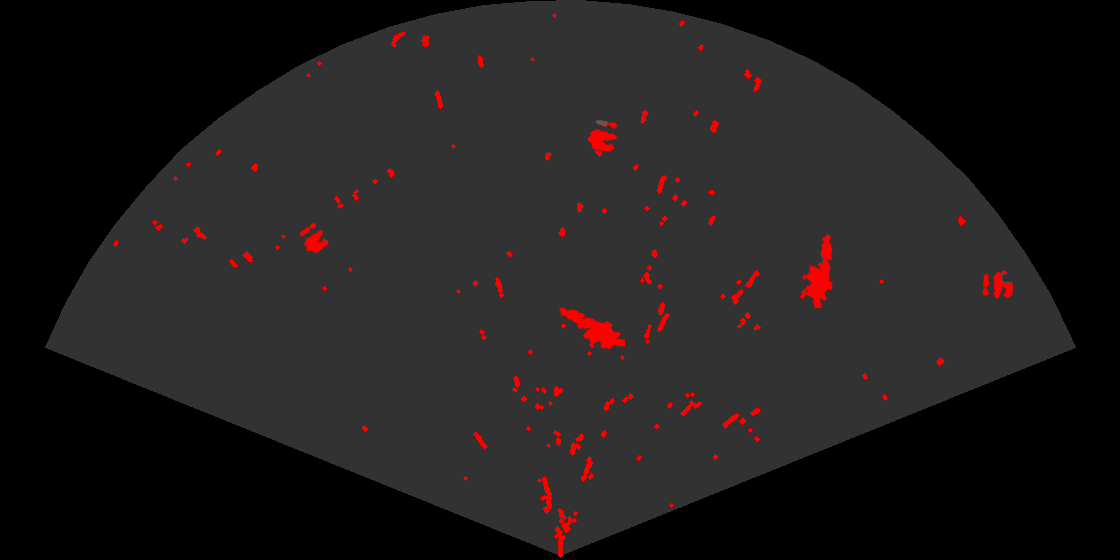ball: (586, 119, 619, 154), (298, 221, 330, 255), (981, 269, 1015, 300)
frogman: (557, 306, 625, 351), (800, 232, 834, 308)
